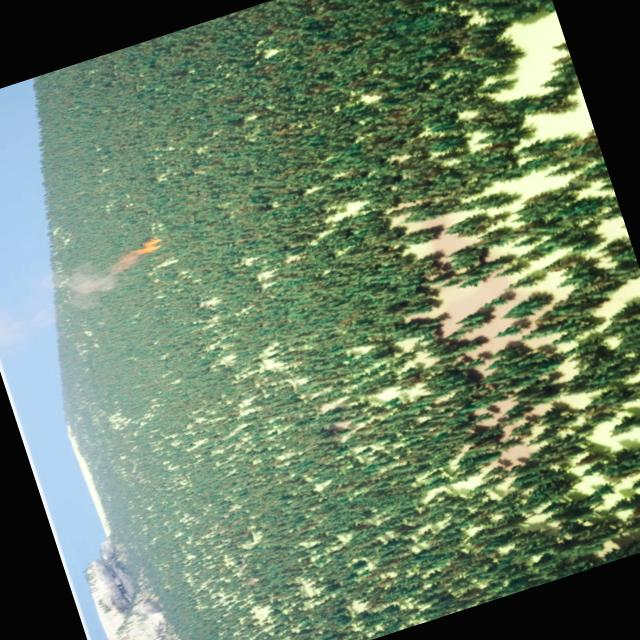fire: (126, 234, 166, 258)
smoke: (0, 244, 153, 349)
